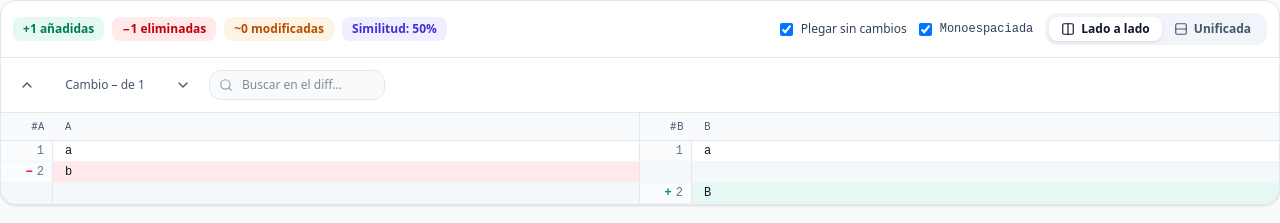
Test case: DiffViewer › las teclas n/p no actúan mientras se escribe en el buscador
Click the search field named "Buscar en las diferencias".
click(297, 85)  # box left=209, top=70, right=385, bottom=100
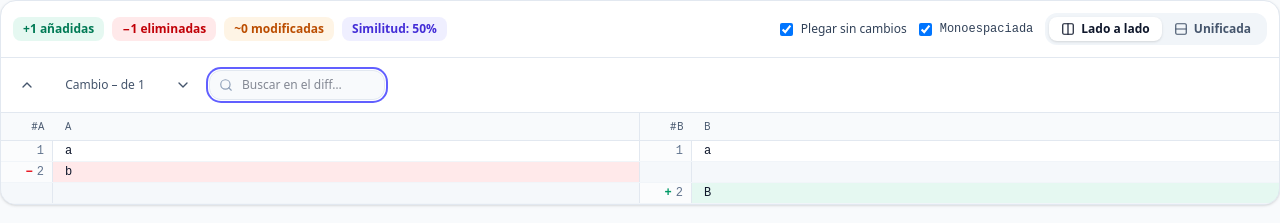
Type keys "n"
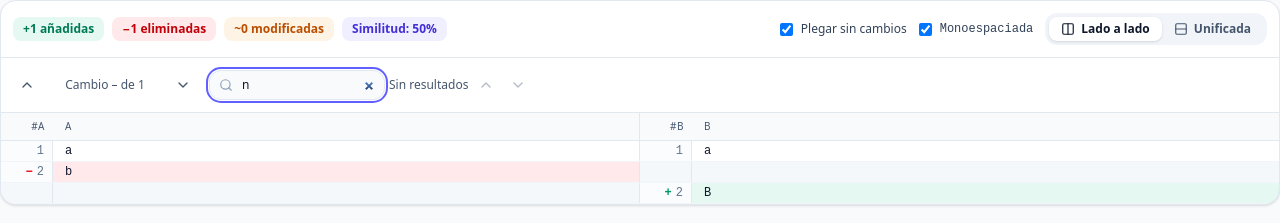
Expected: the text "Cambio – de 1" is shown, left=65, top=76, right=145, bottom=93
Now the search field named "Buscar en las diferencias" holds "n", box left=209, top=70, right=385, bottom=100
